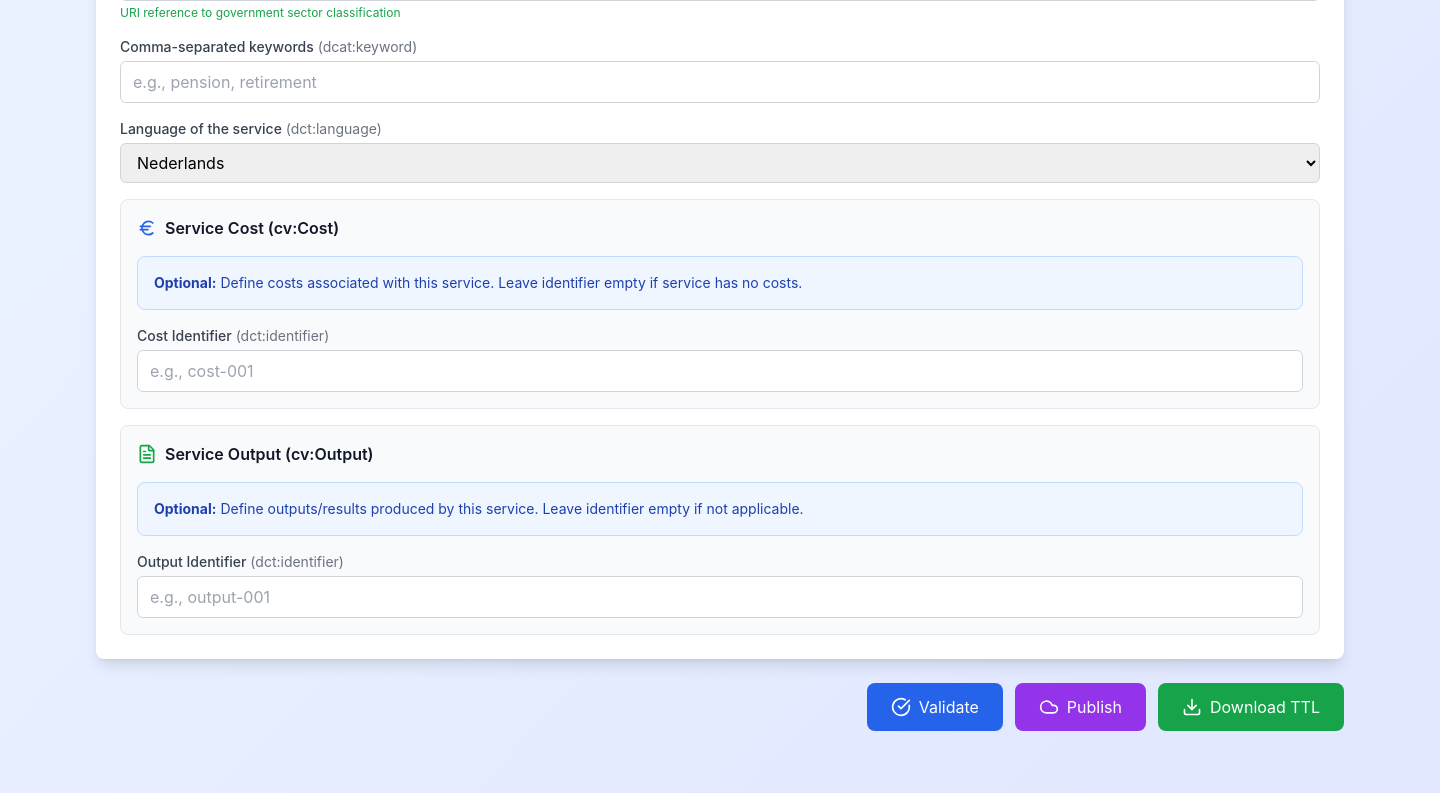
saving through the File System Access API › a real failure warns and falls back to a plain download
The width and height of the screenshot is (1440, 793).
(page scrolled)
Click the button "Download TTL": {"x": 1251, "y": 707} [1158,683,1344,731]
(page scrolled)
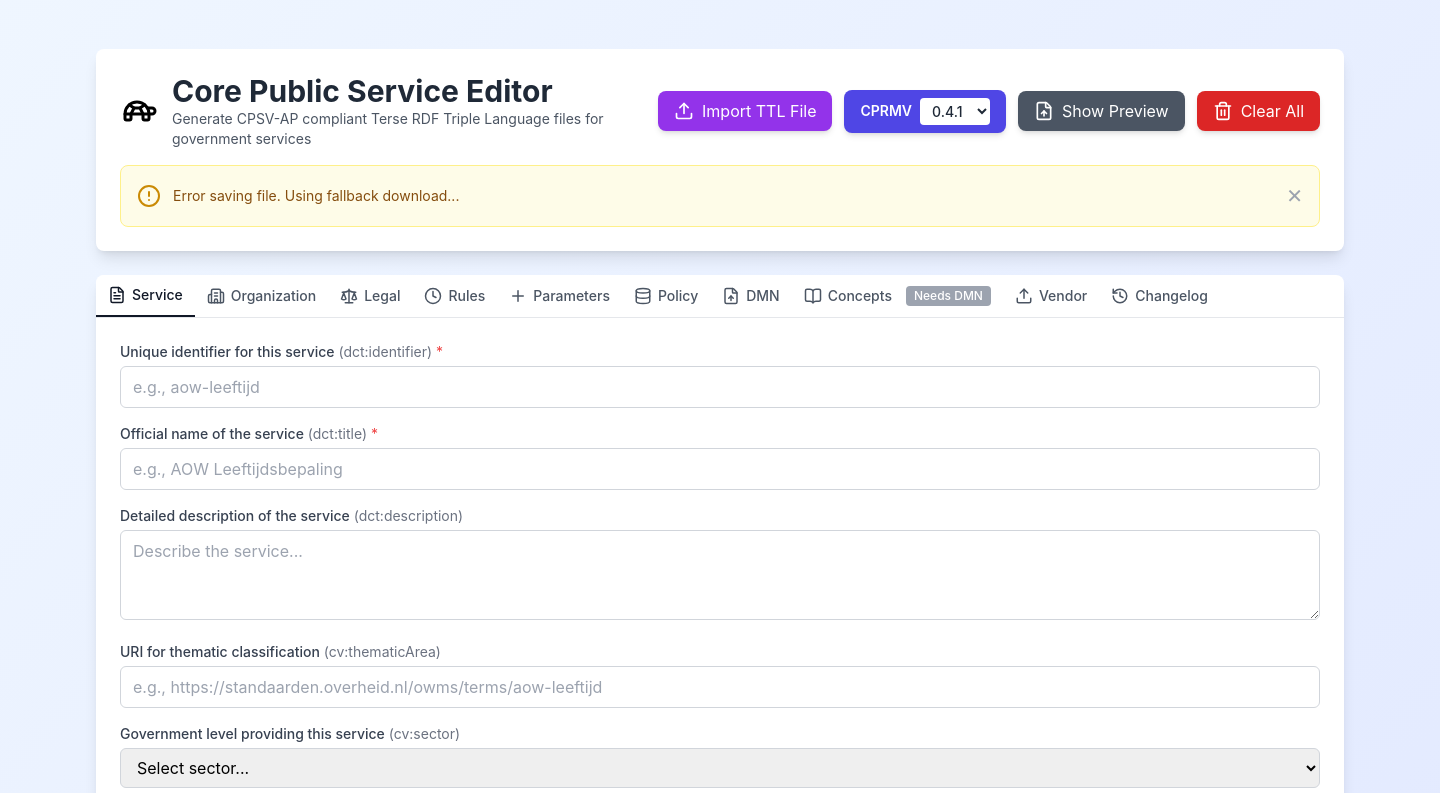
Result: the text "Error saving file. Using fallback download..." is shown at [173,187,459,204]
